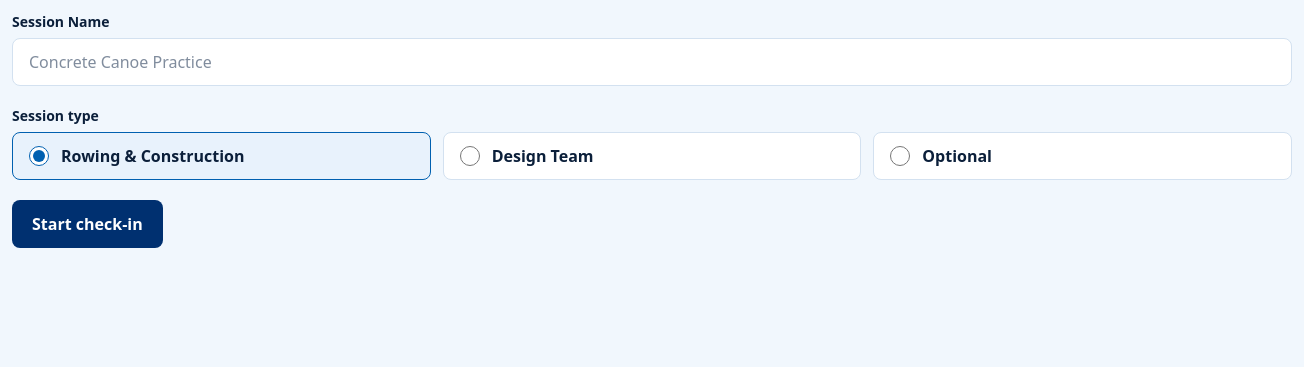
Test: SessionForm: single session type › preserves Optional on validation failure and focuses the title error
The width and height of the screenshot is (1304, 367).
Click the radio button labelled "Optional".
click(900, 156)  # box [890,146,910,166]
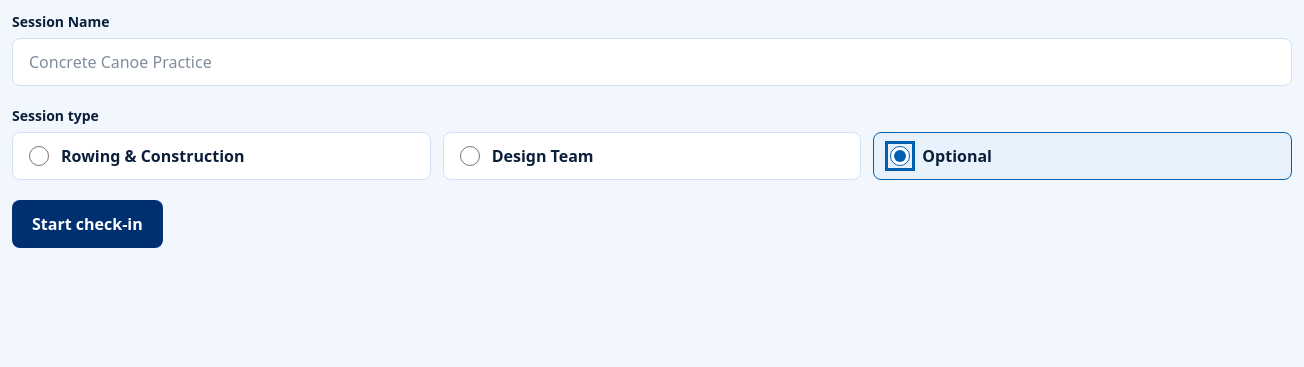
Click the button "Start check-in".
click(87, 224)  # box [12,200,163,248]
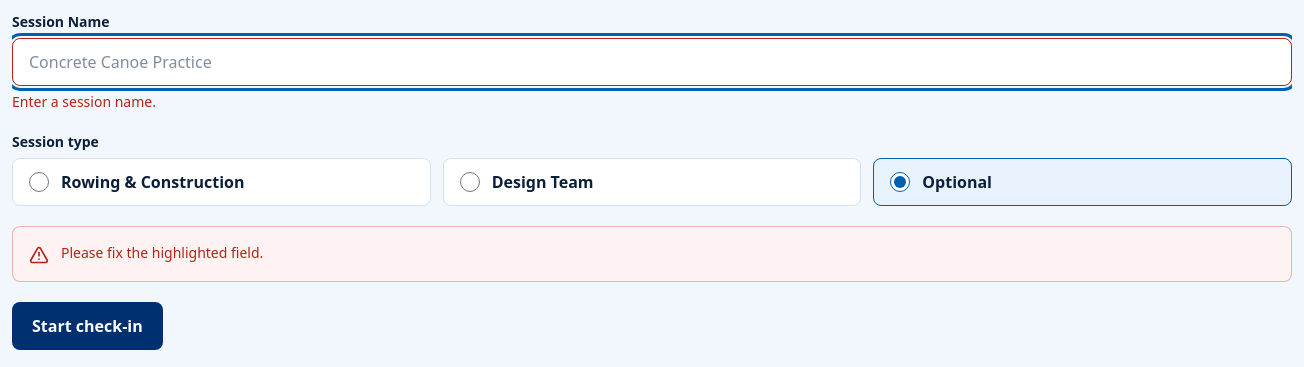
Expected: the radio button labelled "Optional" is checked, [890,172,910,192]
Expected: the text "Enter a session name." is shown, [12,92,156,111]
